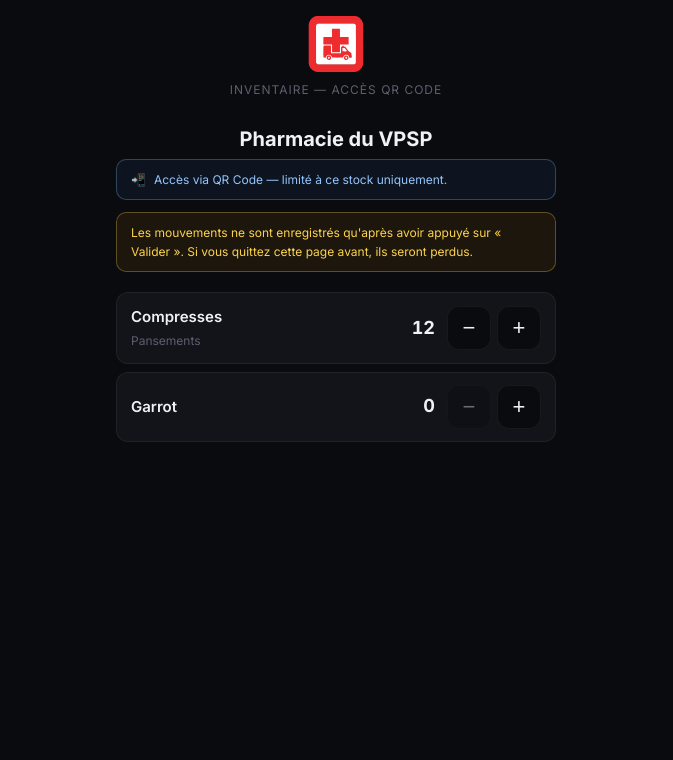
Test: QRStockPage › affiche une erreur serveur dans un encart inline, jamais via alert() (AC-I8)
This screenshot has width=673, height=760.
Expected: the heading "Pharmacie du VPSP" is shown, [240,127,432,151]
Click the button named "Retirer une unité de Compresses" at coordinates (469, 328), box [447,306,491,350]
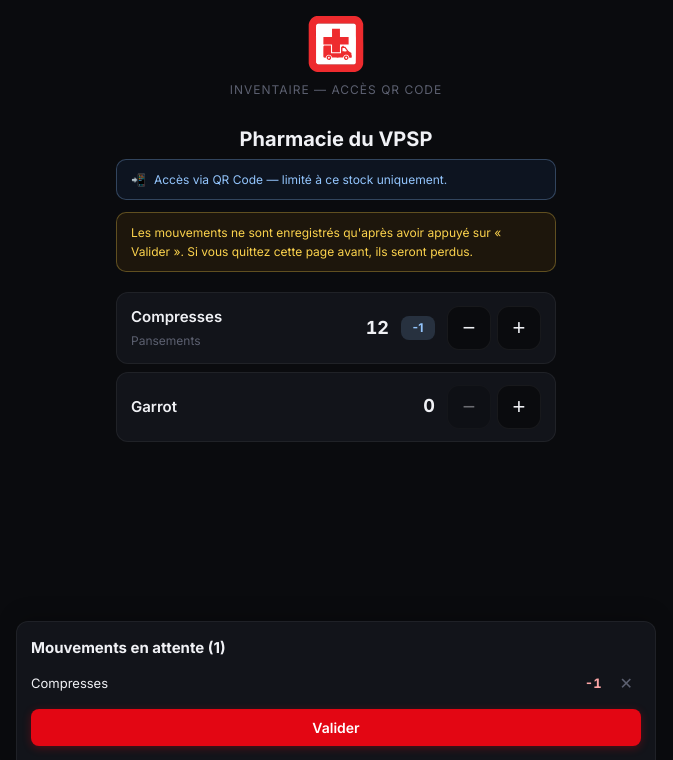
Click the button "Valider" at coordinates (336, 728), box [31,709,641,746]
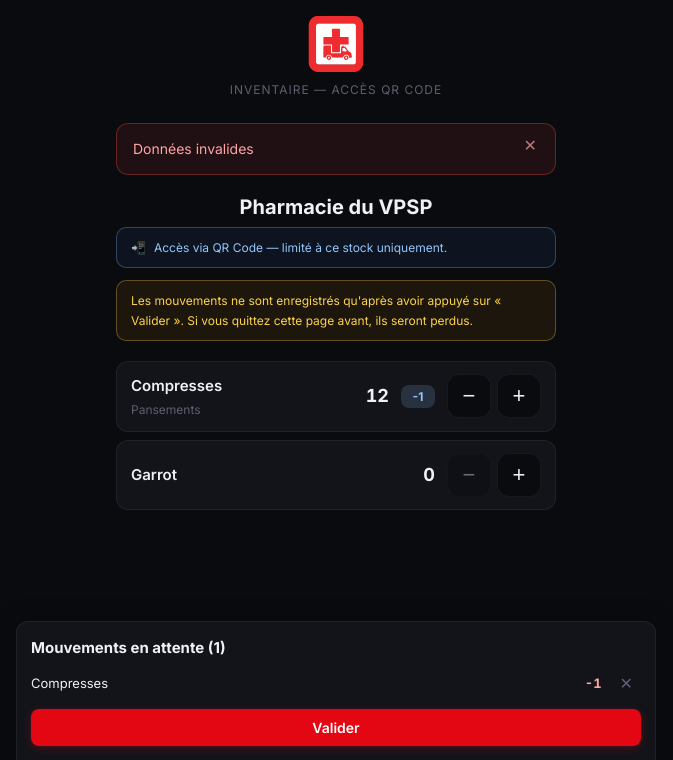
Now the text "Données invalides" is shown, box [133,140,254,157]
